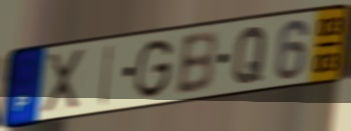6: (273, 17, 311, 82)
B: (173, 28, 219, 97)
G: (132, 36, 176, 101)
I: (97, 42, 115, 109)
Q: (231, 24, 270, 86)
X: (41, 46, 87, 117)
